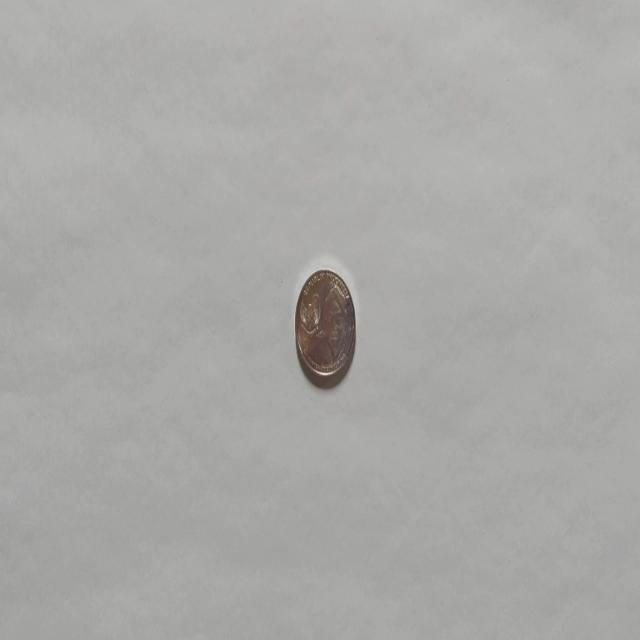dua ratus rupiah: (294, 266, 356, 386)
